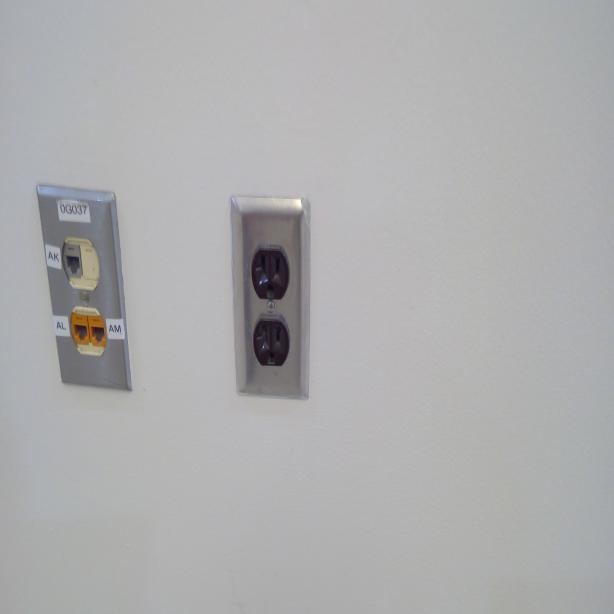typeb: (252, 248, 287, 298), (254, 318, 286, 370)
